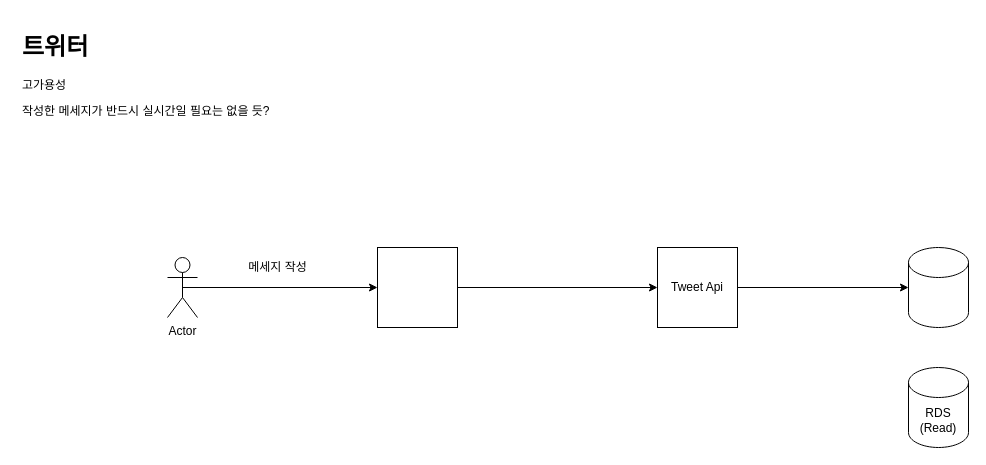
Image size: 986x465. Some labels were removed from this diagram. The box of each missing label's shape, as (x1, y1, x2, y2) in pixels:
App / Web (Front): (376, 246, 458, 328)
RDS (Write): (908, 246, 968, 328)
